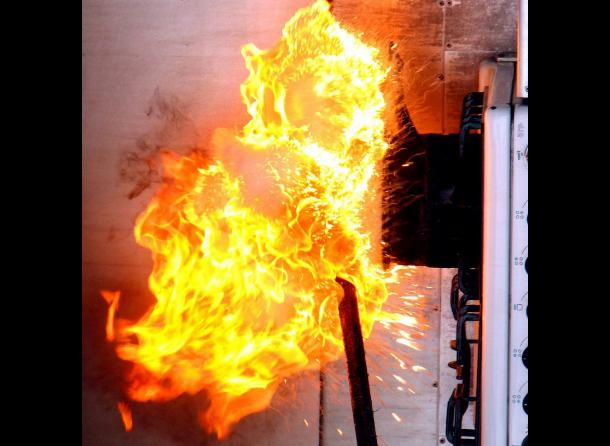fire: (99, 0, 461, 446)
